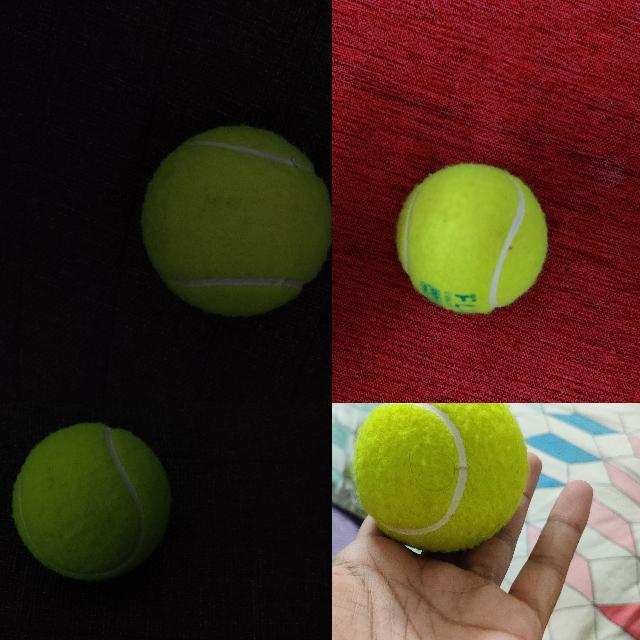tennis-ball: (140, 124, 331, 316), (350, 403, 530, 554), (10, 422, 172, 580), (395, 164, 547, 312)
